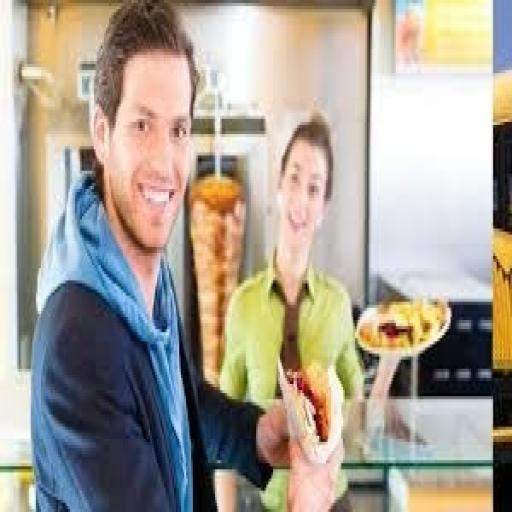eating: (27, 0, 415, 506)
